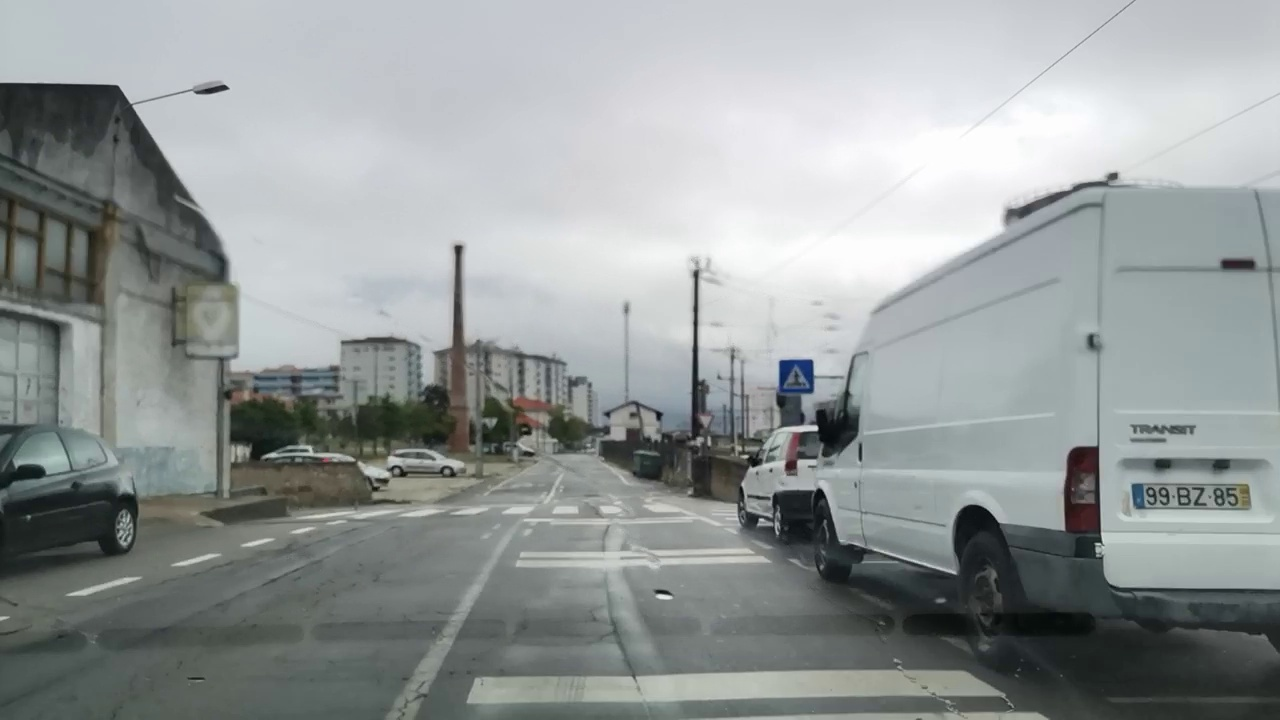Stairs: (298, 497, 684, 519)
